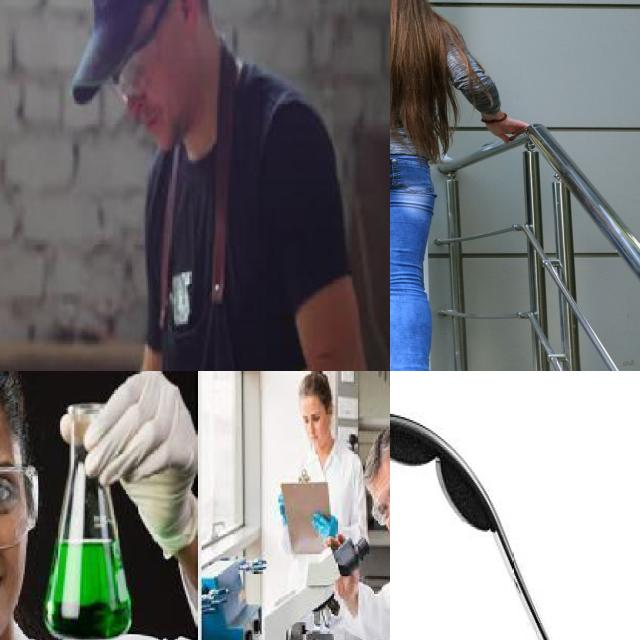Ear-protection: (390, 396, 619, 640)
face_nomask: (108, 46, 172, 145), (296, 408, 326, 449), (374, 474, 390, 543)
glasses: (106, 32, 172, 102), (0, 457, 39, 562), (370, 452, 390, 532)
hand_glove: (60, 371, 204, 551), (307, 504, 338, 539)
head_nohelmet: (80, 0, 191, 50), (351, 427, 390, 484), (288, 371, 337, 411)
person: (71, 0, 372, 371), (337, 424, 390, 640)
